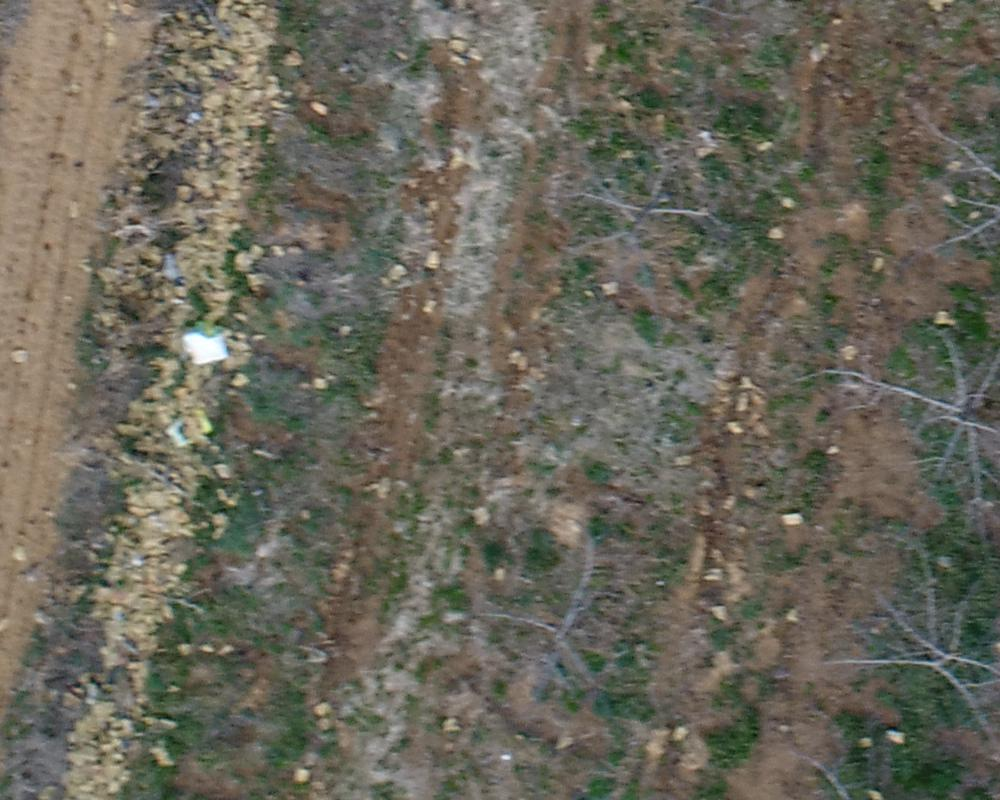apple: (777, 538, 990, 754), (795, 314, 990, 529), (534, 120, 736, 286), (461, 529, 645, 707)
